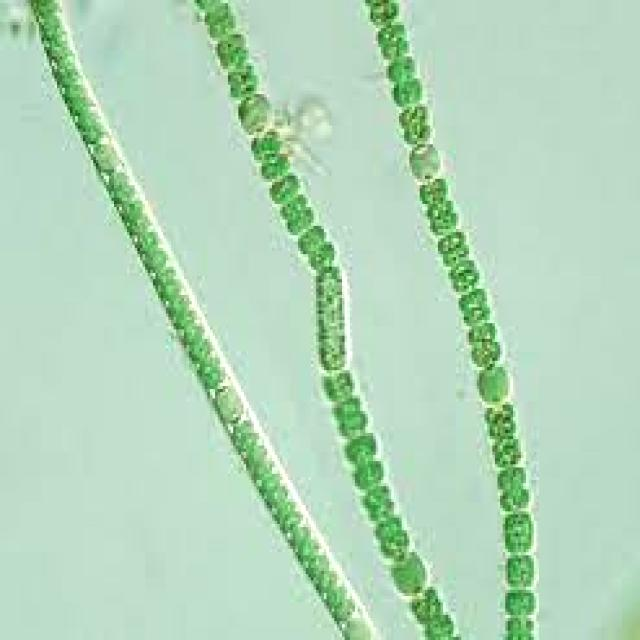Blue Green Algae: (464, 323, 508, 367), (500, 512, 539, 556), (474, 361, 513, 402), (236, 91, 272, 135), (456, 286, 495, 326), (498, 464, 528, 512), (432, 229, 472, 264), (407, 141, 443, 179), (500, 552, 539, 587), (342, 430, 384, 461), (215, 31, 249, 69), (482, 402, 518, 436), (249, 126, 282, 163), (446, 260, 484, 292), (360, 483, 394, 518), (212, 383, 244, 420), (321, 374, 363, 402), (264, 172, 303, 200), (373, 16, 412, 44), (500, 587, 539, 615), (391, 75, 425, 107), (490, 436, 523, 468), (352, 458, 386, 489), (228, 63, 259, 97), (412, 593, 446, 624), (88, 135, 119, 169), (383, 56, 420, 84), (399, 116, 438, 141), (75, 107, 106, 138), (295, 223, 329, 251), (60, 82, 90, 113), (306, 238, 339, 266), (194, 358, 226, 386), (135, 242, 166, 270), (394, 100, 433, 122), (275, 194, 311, 217), (373, 514, 402, 542), (415, 176, 448, 200), (52, 54, 80, 82), (179, 317, 207, 345), (425, 198, 459, 220), (332, 396, 362, 420), (166, 288, 189, 316), (122, 210, 150, 232), (187, 339, 215, 361), (106, 182, 135, 201), (150, 266, 176, 286), (111, 198, 142, 213), (104, 166, 130, 182)
